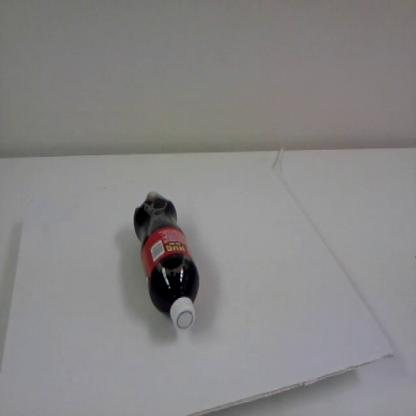bottle: (132, 189, 201, 332)
